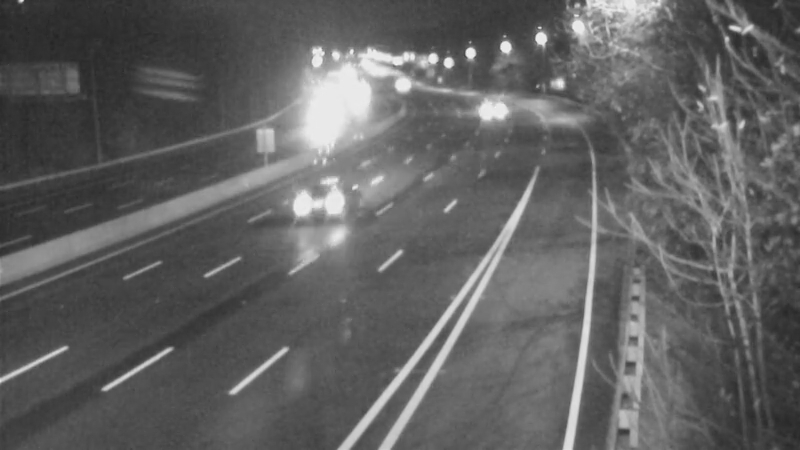vehicle: (280, 165, 360, 245), (374, 61, 424, 111), (463, 79, 513, 129)
